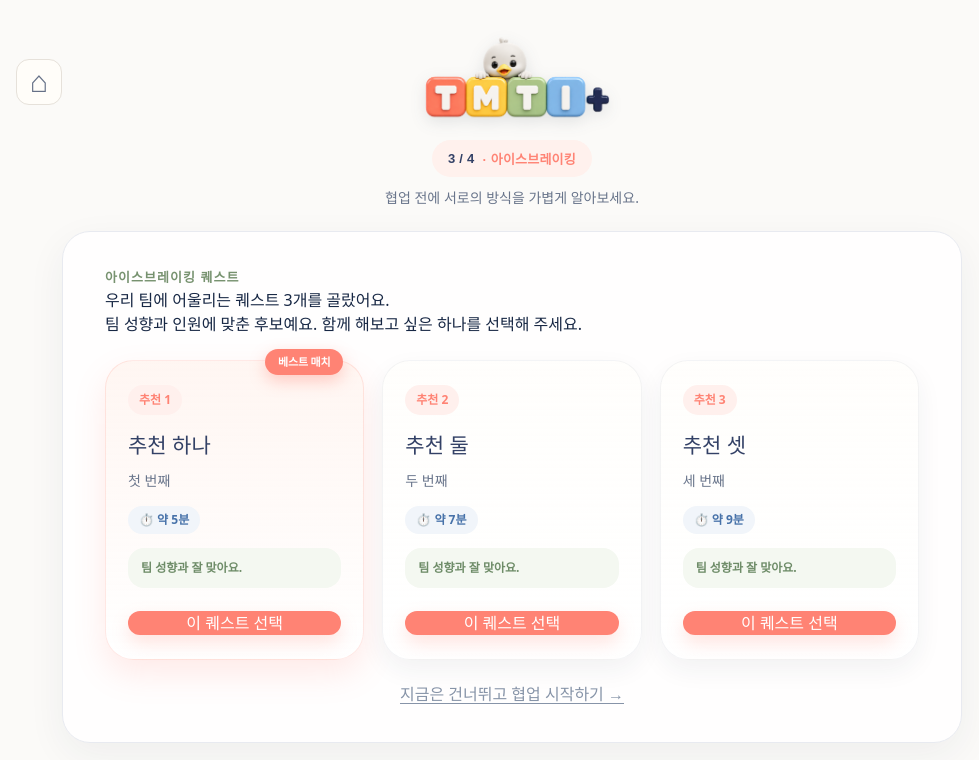
Scenario: QuestPage 역할별 버튼 › 아직 배정 전이면 팀 성향 추천 3개를 보여주고 선택한 퀘스트를 배정한다
Expected: the heading "추천 하나" is shown, [128,431,211,459]
Expected: the heading "추천 둘" is shown, [405,431,469,459]
Step 1. Click the button "이 퀘스트 선택" below "두 번째" → point(512, 623), box [405,611,619,635]
(page scrolled)
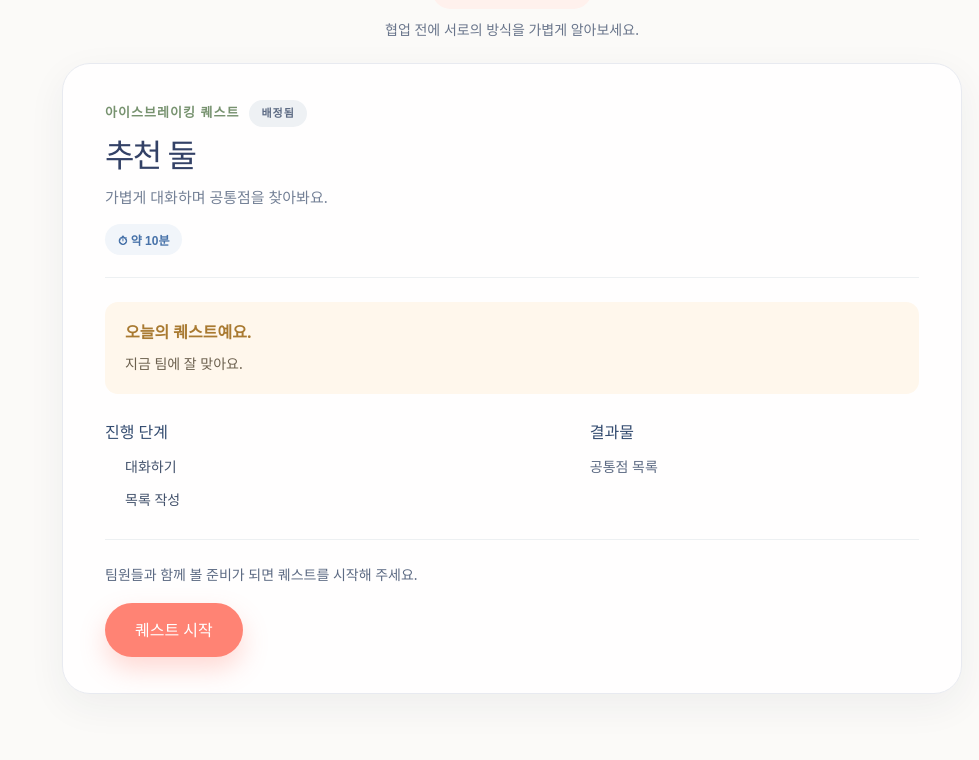
Expected: the button "퀘스트 시작" is shown, [105,603,243,657]
